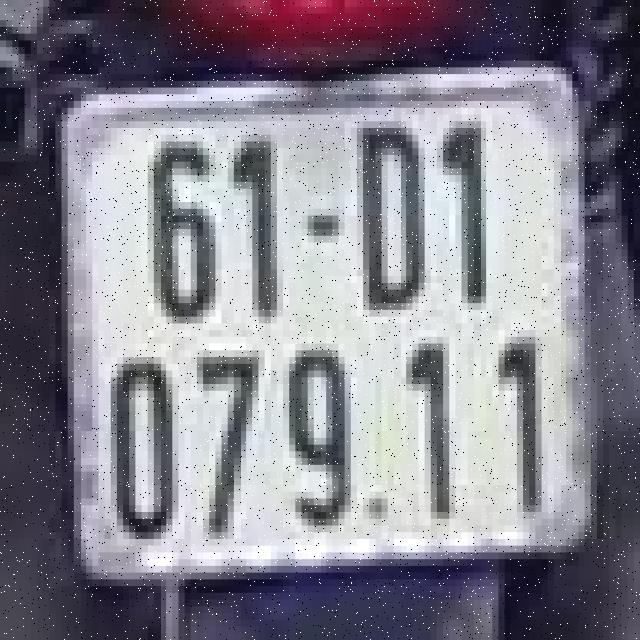0: (92, 347, 185, 556)
1: (422, 101, 502, 310), (394, 324, 461, 526), (225, 114, 286, 323), (492, 320, 548, 529)
6: (129, 118, 222, 327)
7: (184, 323, 264, 539)
9: (271, 323, 357, 519)
D: (344, 94, 430, 323)
